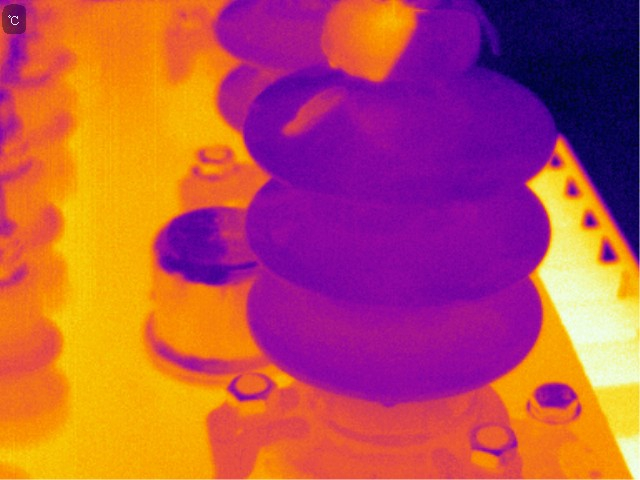Oil: (327, 1, 407, 82), (279, 89, 345, 139), (350, 94, 404, 152)
